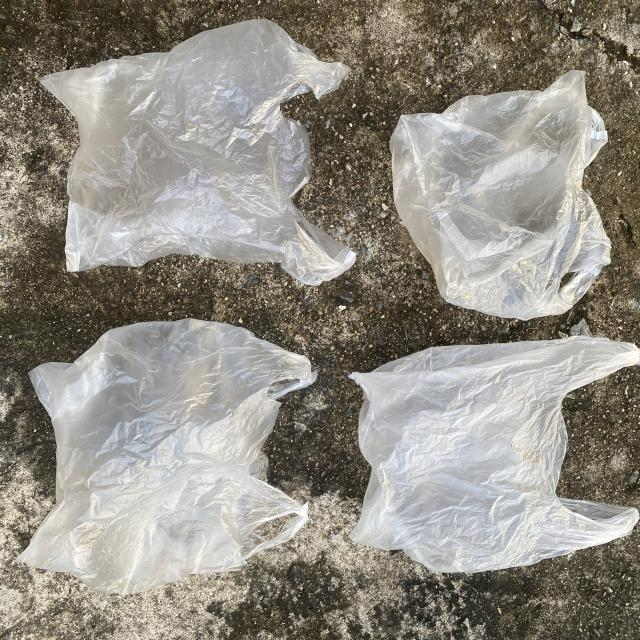Single-layer Plastic: (40, 20, 355, 285), (19, 319, 315, 594), (350, 336, 640, 572), (390, 70, 611, 320)
